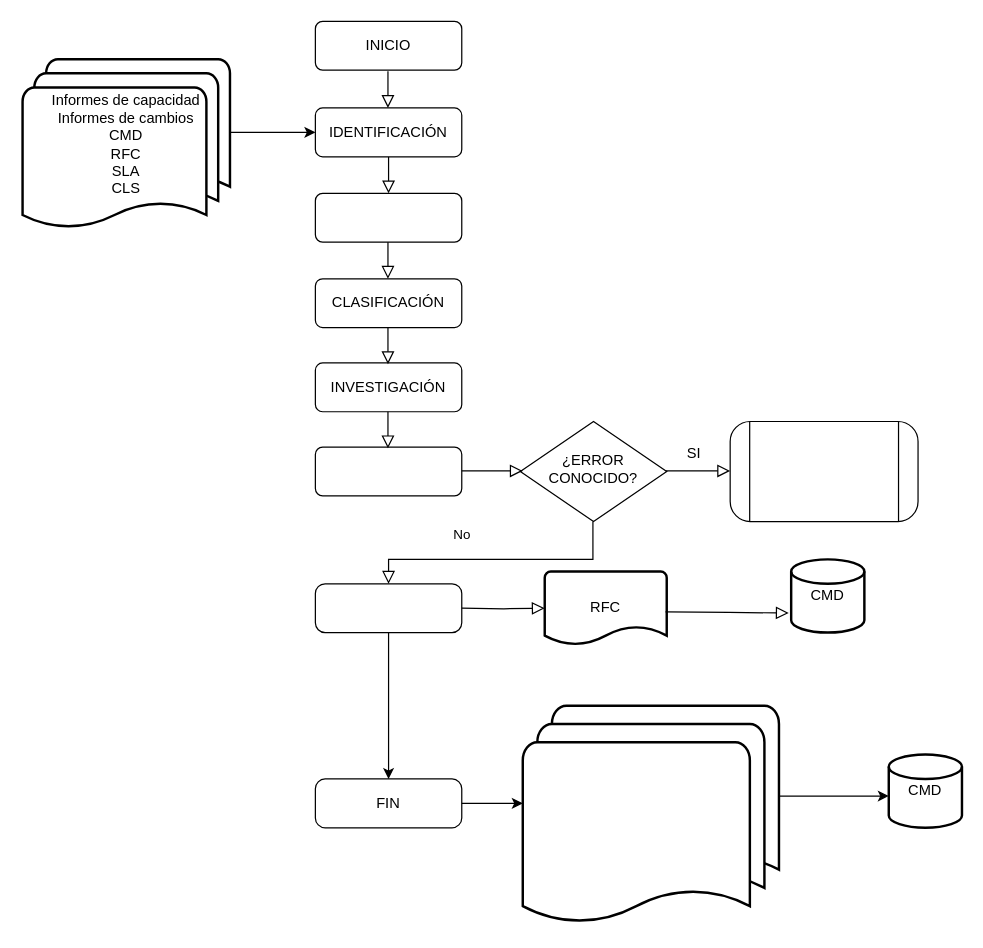
The diagram is 983 pixels wide and 948 high, and some of its shapes have lost their labels. The shapes that lost their labels are listed below. From the top down, each one's centre as x and y in pixels, then its label:
At (x=388, y=217): "REGISTRO".
At (x=388, y=471): "DISAGNOSTICO".
At (x=823, y=471): "GESTION DE ERRORES".
At (x=388, y=608): "SOLUCION TEMPORAL".
At (x=650, y=815): "INFORME DE SOLUCIONES DEFINICTIVAS INFORME DE SOLUCIONES TEMPORALES".
